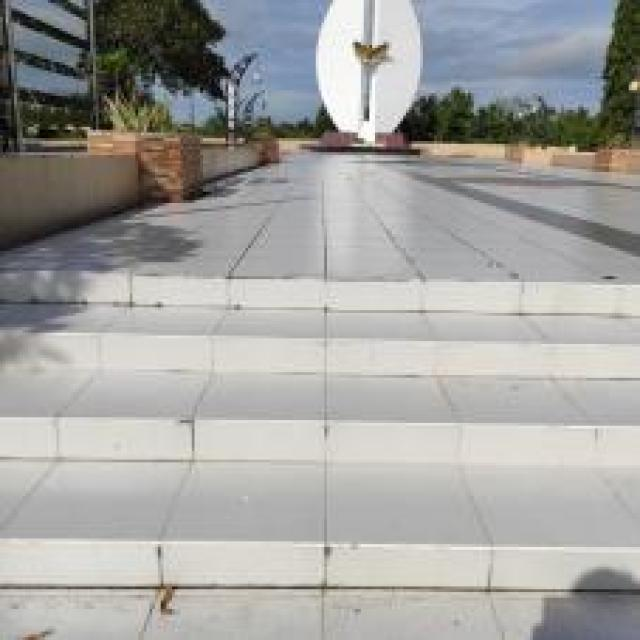upstair: (4, 261, 638, 616)
